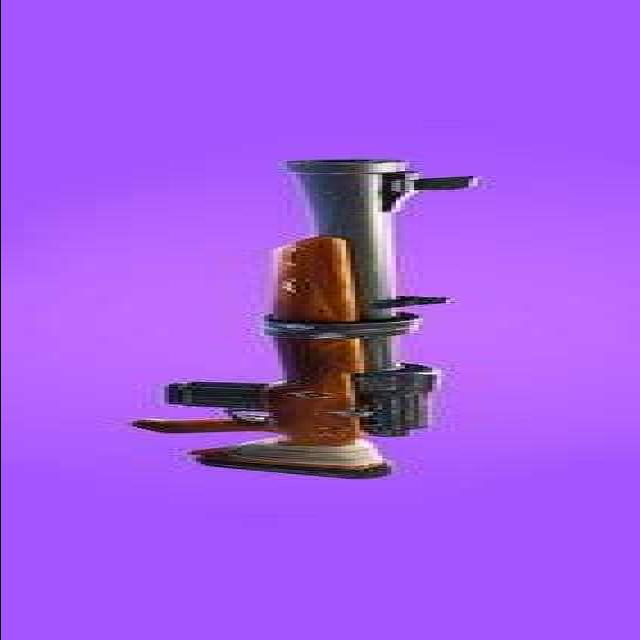heavyweapon: (74, 141, 510, 504)
